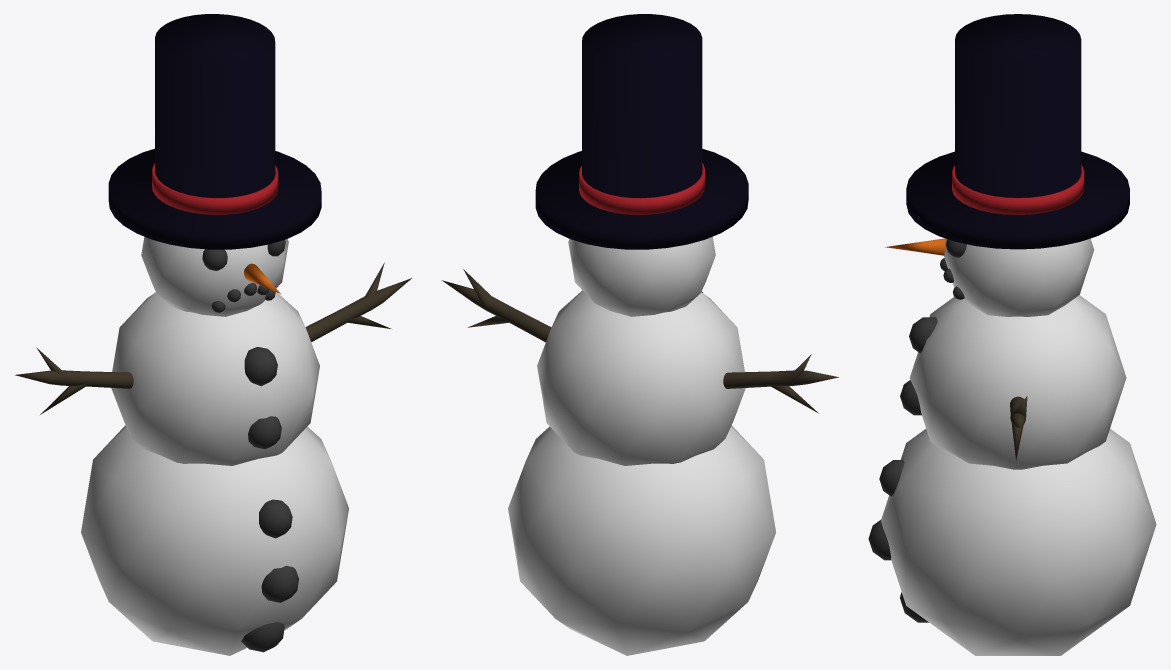
Rendered from Frosty.fbx.
The picture shows the model from 3 angles, left to right: view 1: azimuth 30°, elevation 25°; view 2: azimuth 150°, elevation 25°; view 3: azimuth 270°, elevation 25°; orthographic projection.
Parts seen in each view (by area): view 1: Snowman; view 2: Snowman; view 3: Snowman.
Boxes of the visible parts, x1,y1,x2,y2 form: Snowman: (15,14,411,655); Snowman: (441,14,838,655); Snowman: (868,14,1156,655).
Bounding box in the file's own units: 122 × 177 × 75.64.
